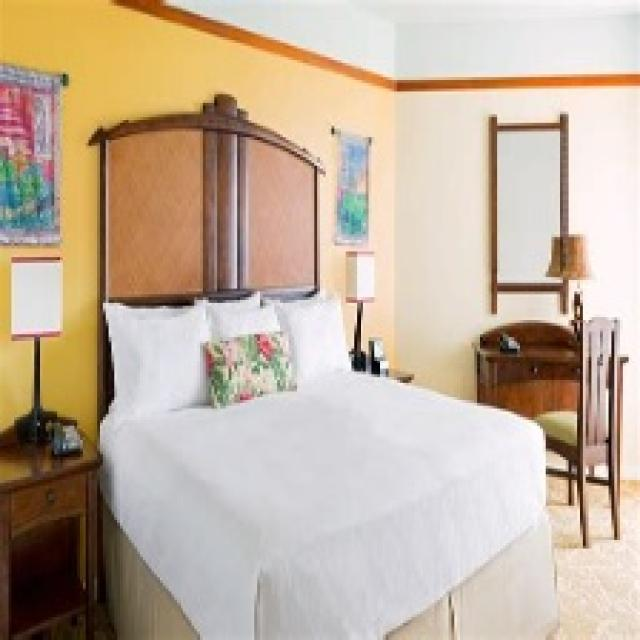Bed: (86, 92, 560, 637)
